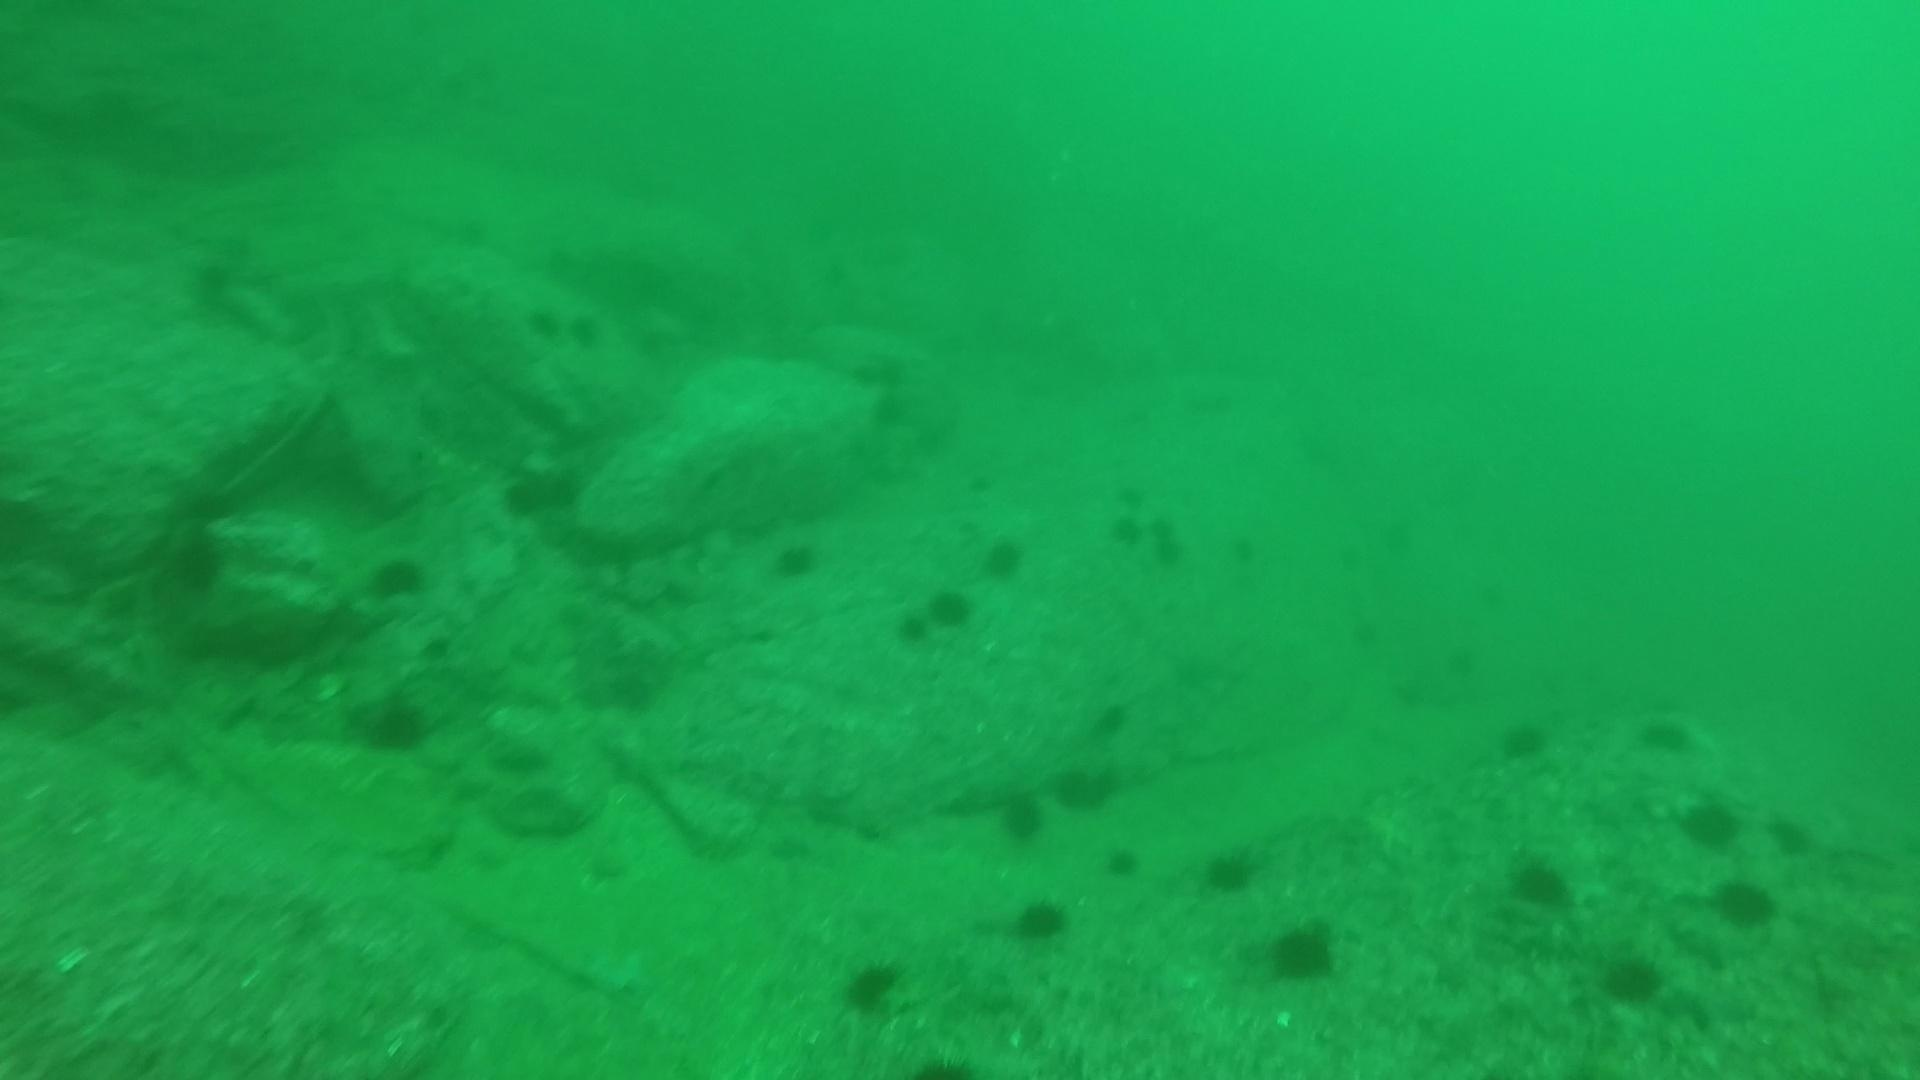echinus: (353, 686, 435, 757), (1265, 916, 1342, 986), (164, 525, 231, 597), (837, 953, 907, 1019), (1505, 851, 1577, 914), (1676, 790, 1745, 855), (1597, 947, 1668, 1009), (1709, 873, 1780, 934), (1050, 758, 1120, 816), (364, 550, 433, 605), (1199, 841, 1263, 898), (1009, 893, 1072, 948), (992, 786, 1048, 847), (1634, 709, 1697, 760), (1495, 713, 1553, 765), (498, 472, 553, 524), (533, 467, 587, 518), (512, 293, 566, 344), (829, 351, 884, 402), (767, 535, 824, 584), (550, 299, 604, 349), (857, 390, 911, 440), (869, 353, 923, 404), (1178, 378, 1232, 429), (978, 531, 1029, 583), (1764, 810, 1816, 860), (890, 608, 945, 654), (922, 584, 977, 629), (1102, 843, 1142, 882), (1112, 479, 1149, 517), (1149, 512, 1185, 549), (1375, 520, 1412, 556), (1335, 534, 1371, 571), (1153, 533, 1188, 571), (1106, 512, 1142, 550), (1229, 531, 1265, 570), (1095, 699, 1130, 737), (1345, 617, 1381, 655), (961, 472, 997, 510), (1474, 568, 1510, 607), (1451, 644, 1486, 680)
